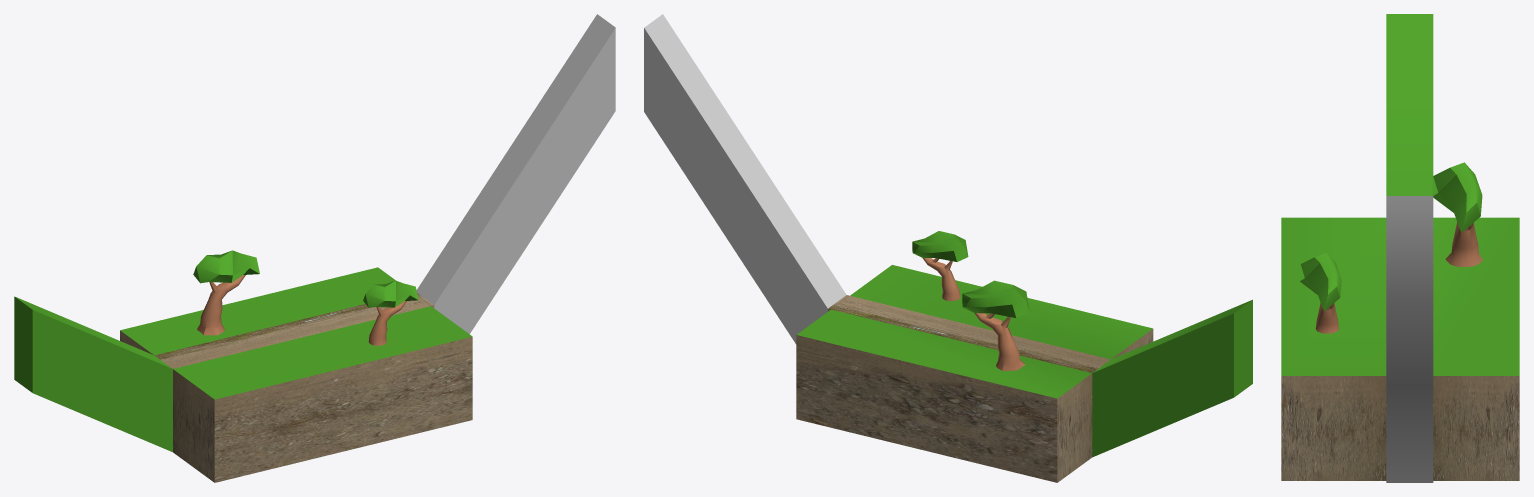
The model's file is brandnewscene.fbx.
3 renders of one model, left to right at view 1: azimuth 30°, elevation 25°; view 2: azimuth 150°, elevation 25°; view 3: azimuth 270°, elevation 25°, orthographic. The views are drawn at different scales.
Visible parts, largest first — view 1: Mesh, Mesh (2), Mesh (3), Mesh (2) (2), Mesh (4); view 2: Mesh, Mesh (2), Mesh (2) (2), Mesh (3), Mesh (4); view 3: Mesh, Mesh (2), Mesh (2) (2), Mesh (3), Mesh (4).
Part boxes in pixels (bbox=[...]): Mesh: bbox=[14, 14, 615, 482]; Mesh (2): bbox=[193, 250, 259, 283]; Mesh (3): bbox=[197, 275, 245, 335]; Mesh (2) (2): bbox=[363, 280, 418, 307]; Mesh (4): bbox=[368, 301, 406, 345]; Mesh: bbox=[644, 14, 1252, 482]; Mesh (2): bbox=[962, 280, 1029, 317]; Mesh (2) (2): bbox=[912, 231, 968, 261]; Mesh (3): bbox=[974, 313, 1025, 370]; Mesh (4): bbox=[922, 258, 960, 301]; Mesh: bbox=[1281, 14, 1519, 482]; Mesh (2): bbox=[1432, 162, 1482, 232]; Mesh (2) (2): bbox=[1300, 253, 1341, 311]; Mesh (3): bbox=[1445, 222, 1482, 267]; Mesh (4): bbox=[1316, 303, 1338, 333].
Bounding box in the file's own units: 18997 × 9862 × 5347.
Materials: 7 (6 with a texture image).
